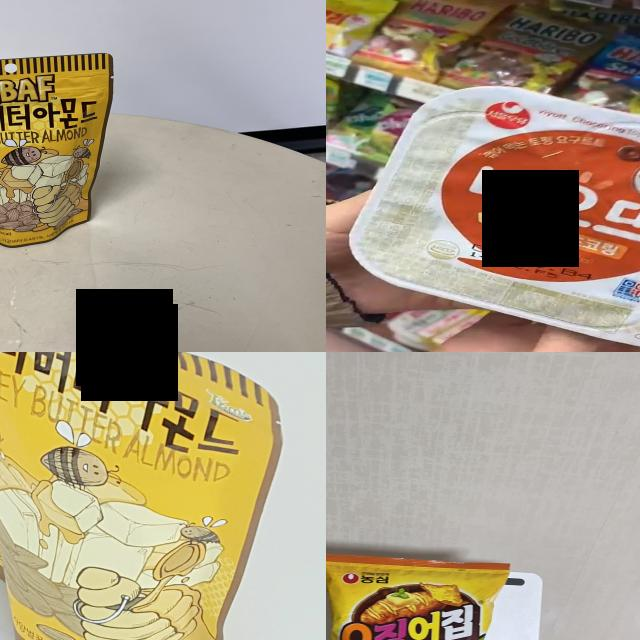bYott: (349, 86, 640, 351)
honeyAmond: (0, 352, 253, 640), (0, 65, 105, 236)
ozingZip: (326, 553, 502, 640)
